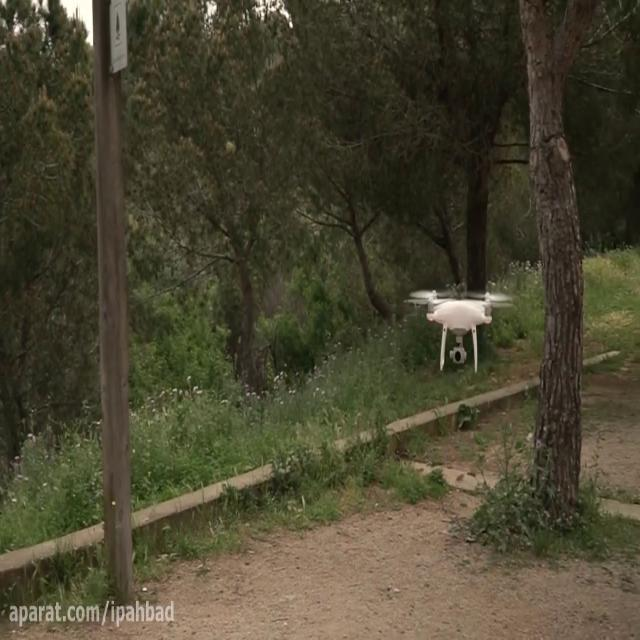drone: (402, 285, 514, 375)
